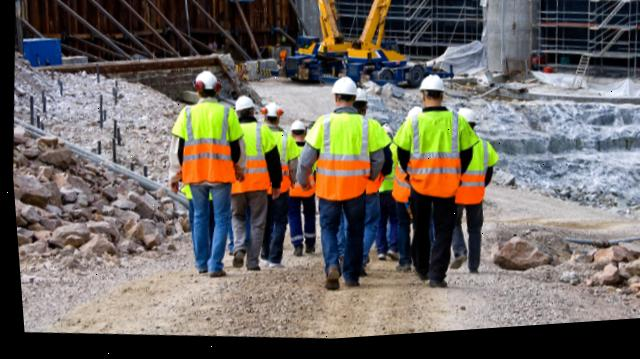helmet: (187, 66, 222, 101), (327, 80, 356, 105), (257, 102, 283, 124), (416, 80, 443, 98), (231, 97, 254, 115), (452, 113, 473, 131), (349, 90, 364, 108), (401, 110, 417, 122), (289, 123, 302, 135)
vest: (309, 122, 378, 207), (399, 113, 461, 204), (177, 102, 233, 183), (446, 142, 490, 213), (225, 130, 270, 196), (268, 136, 292, 196), (287, 149, 308, 203), (373, 147, 393, 195), (388, 175, 404, 204)
